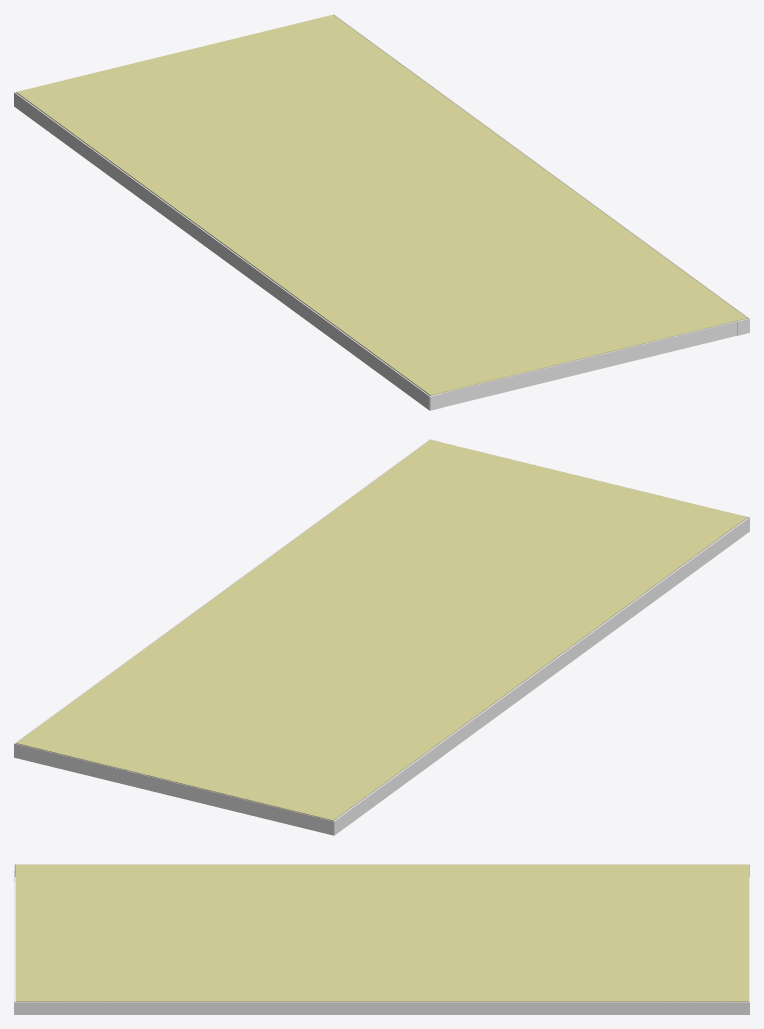
The model's file is Full Panel Canopy.glb.
3 renders of one model, top to bottom at view 1: azimuth 30°, elevation 25°; view 2: azimuth 150°, elevation 25°; view 3: azimuth 270°, elevation 25°, orthographic. The views are drawn at different scales.
Visible parts, largest first — view 1: toggle_back_panel.018, Full_Panel_Canopy; view 2: toggle_back_panel.018, Full_Panel_Canopy; view 3: toggle_back_panel.018, Full_Panel_Canopy.
Part boxes in pixels (x1,y1,x2,y2): toggle_back_panel.018: (16,15,746,395); Full_Panel_Canopy: (14,14,749,410); toggle_back_panel.018: (16,440,747,820); Full_Panel_Canopy: (14,439,749,835); toggle_back_panel.018: (16,864,748,1001); Full_Panel_Canopy: (14,864,749,1014).
Bounding box in the file's own units: 0.969 × 0.0423 × 2.18.
